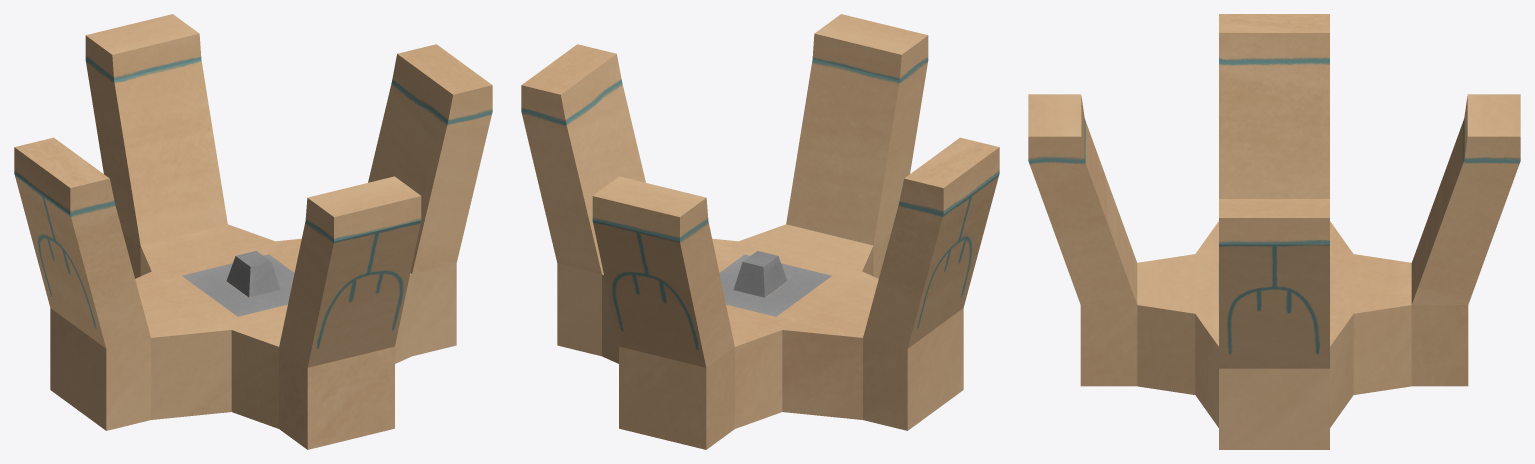
Rendered from gate_on_ball.fbx.
3 renders of one model, left to right at view 1: azimuth 30°, elevation 25°; view 2: azimuth 150°, elevation 25°; view 3: azimuth 270°, elevation 25°, orthographic.
Visible parts, largest first — view 1: gate_on_key_ball; view 2: gate_on_key_ball; view 3: gate_on_key_ball.
Boxes of the visible parts, <box> form: gate_on_key_ball: <box>14,14,492,449</box>; gate_on_key_ball: <box>521,14,999,449</box>; gate_on_key_ball: <box>1028,14,1520,449</box>.
Size of the model in its own units: 37.58 by 38.33 by 21.44.
